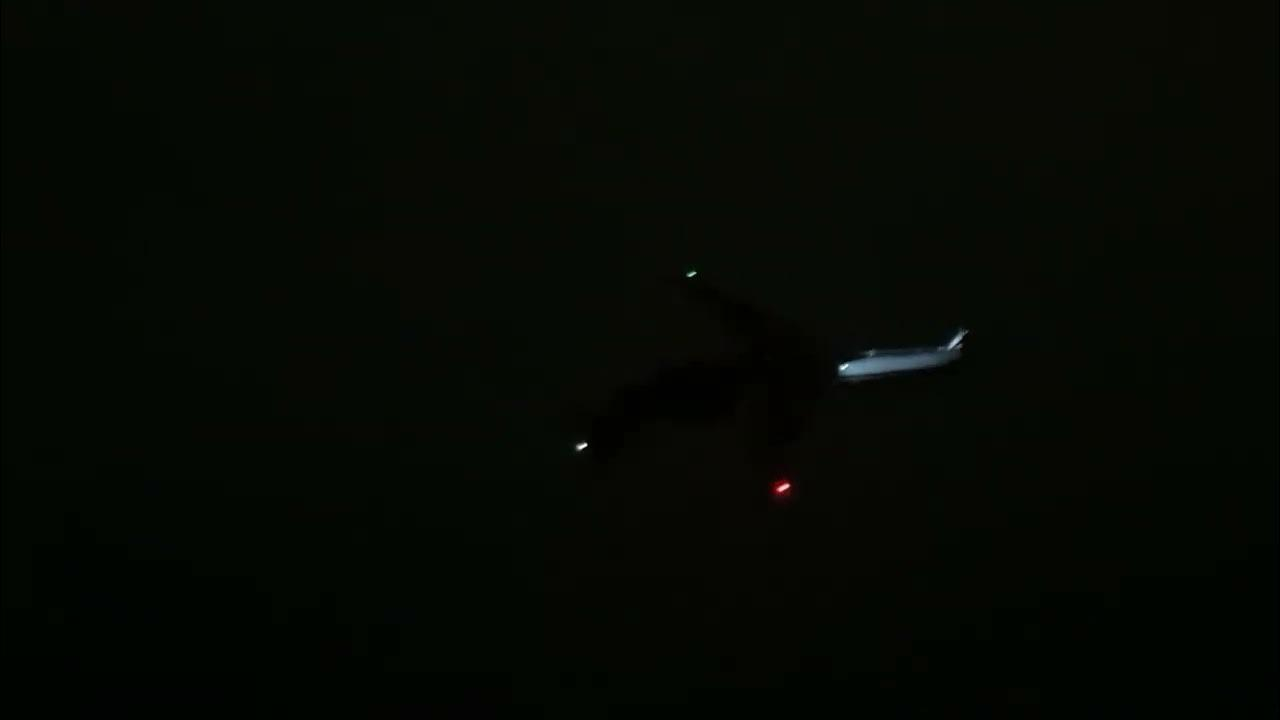Plane: (478, 233, 1072, 538)
